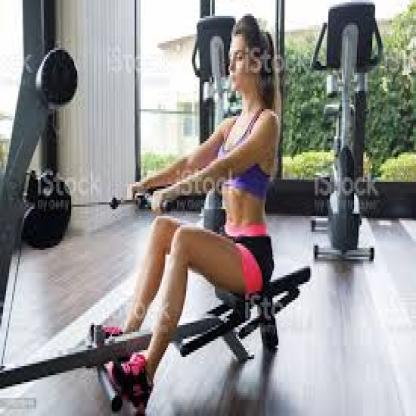Seated Cable Rows: (0, 17, 315, 412)
